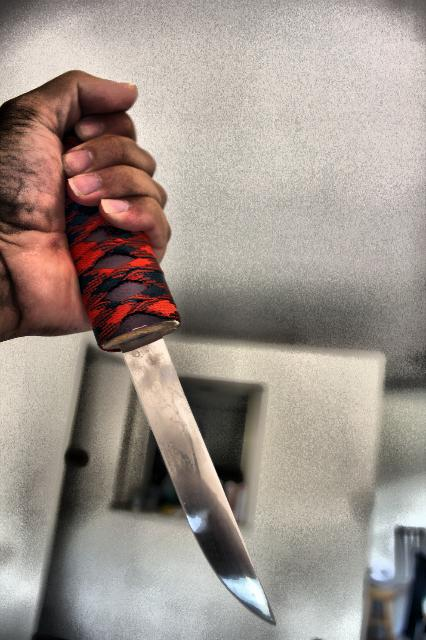knife: (32, 113, 294, 635)
